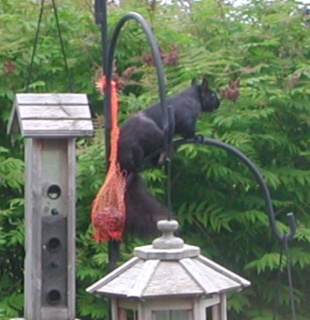Squirrel: (114, 77, 221, 240)
